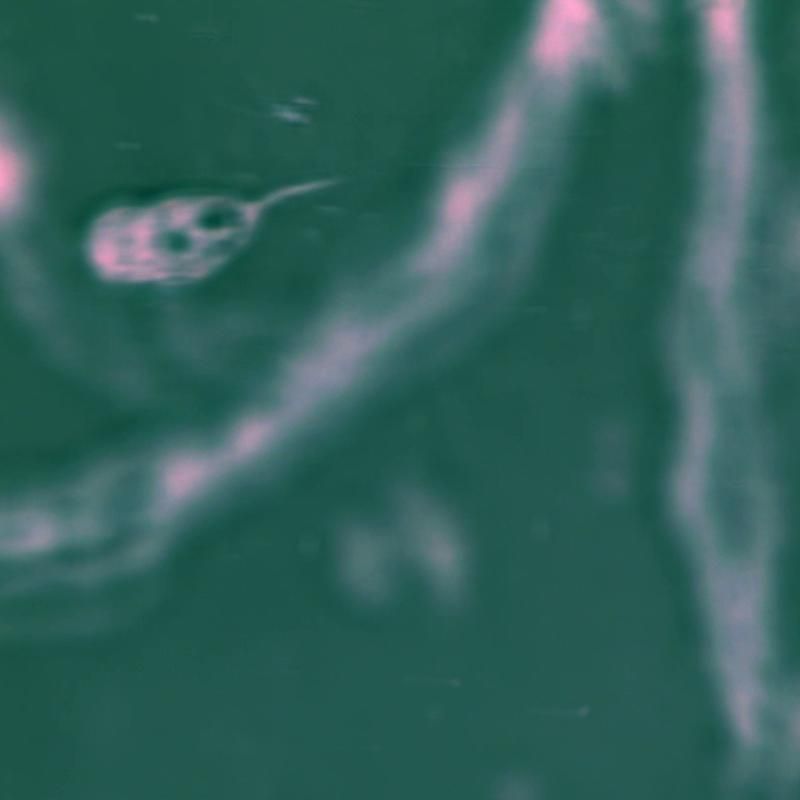depth:60: (43, 153, 439, 322)
